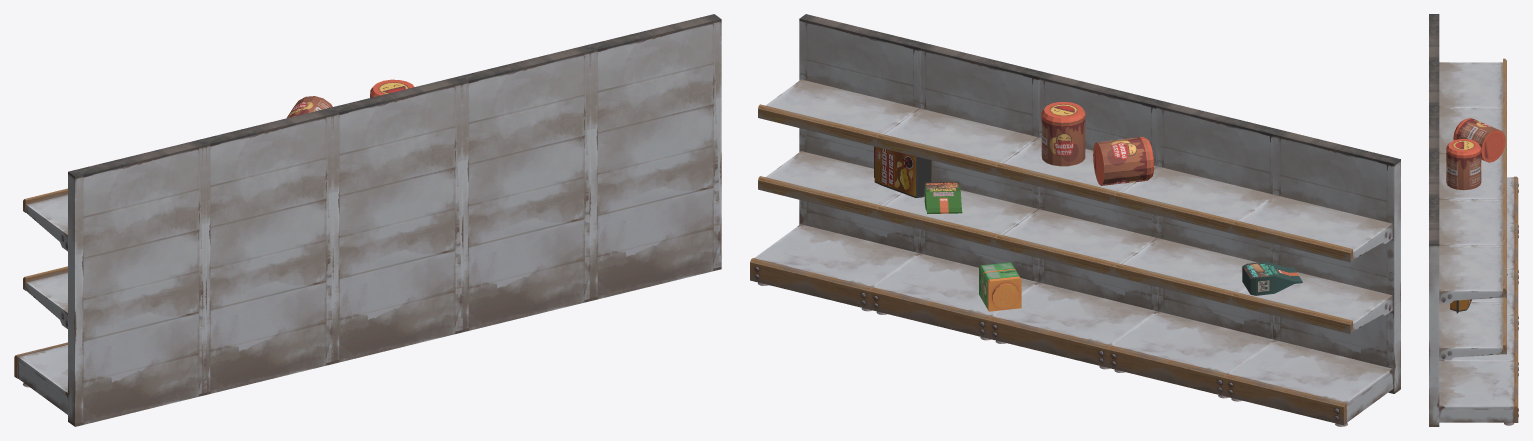
The model's file is P_NEWMaket01_after25.obj.
The picture shows the model from 3 angles, left to right: view 1: azimuth 30°, elevation 25°; view 2: azimuth 150°, elevation 25°; view 3: azimuth 270°, elevation 25°; orthographic projection. The views are drawn at different scales.
Size of the model in its own units: 4.86 by 1.8 by 0.8025.
Materials: 11 (11 with a texture image).
